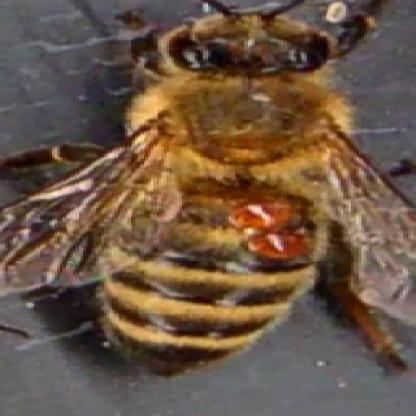bee: (82, 15, 359, 395)
vaoora: (236, 200, 292, 225), (252, 233, 303, 258)
